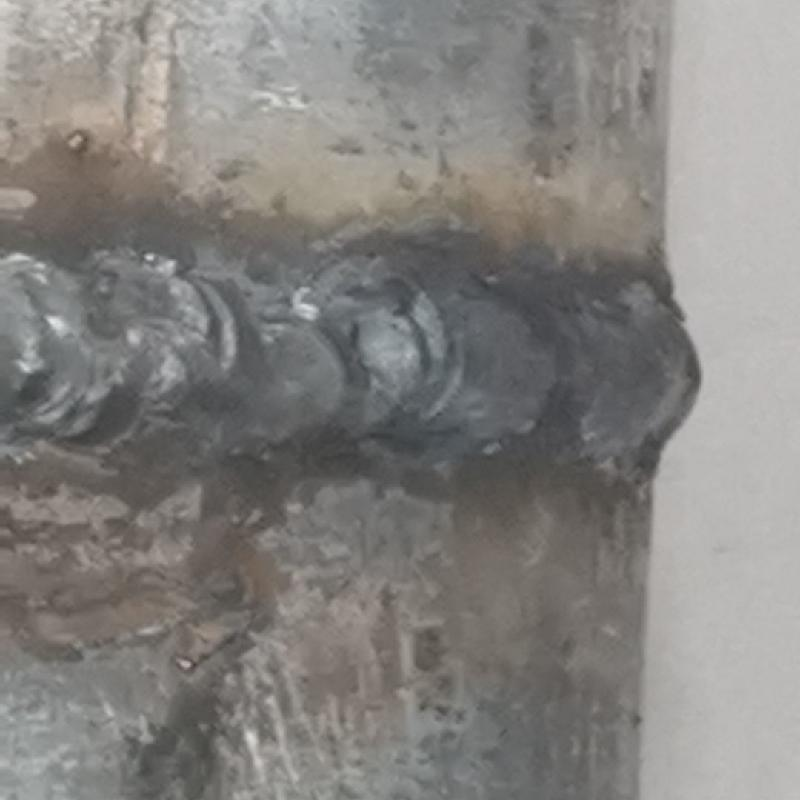good: (0, 245, 708, 502)
